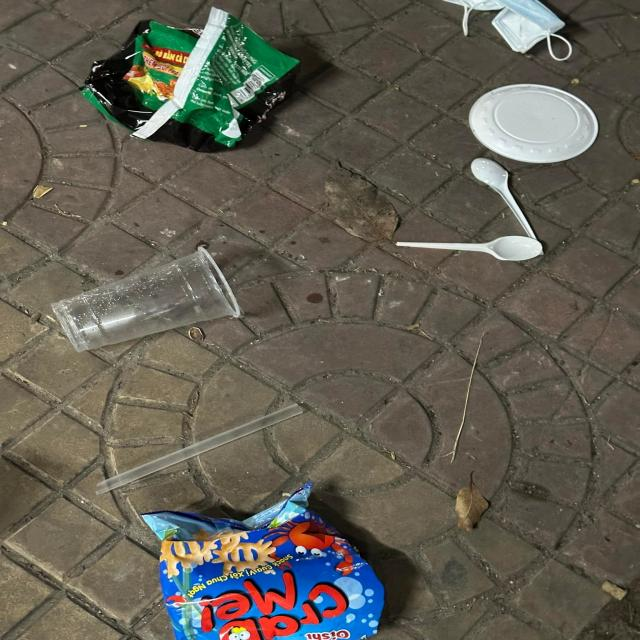drinking straw: (94, 404, 304, 495)
mask: (440, 0, 576, 61)
plastic glass: (51, 246, 240, 352)
plastic holder: (470, 83, 598, 164)
plastic utensil: (471, 160, 544, 256), (397, 236, 542, 263)
snack package: (140, 485, 385, 640), (80, 7, 300, 154)
